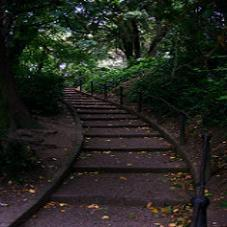Stair Up: (17, 89, 195, 227)
